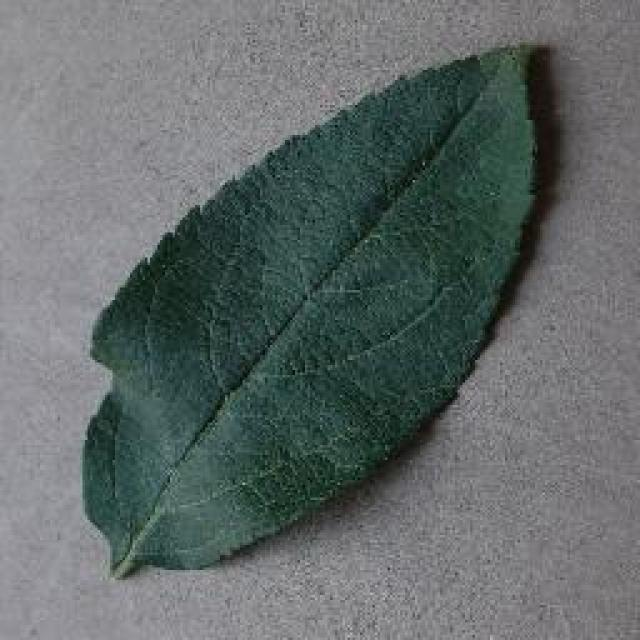apple healthy: (78, 38, 548, 580)
